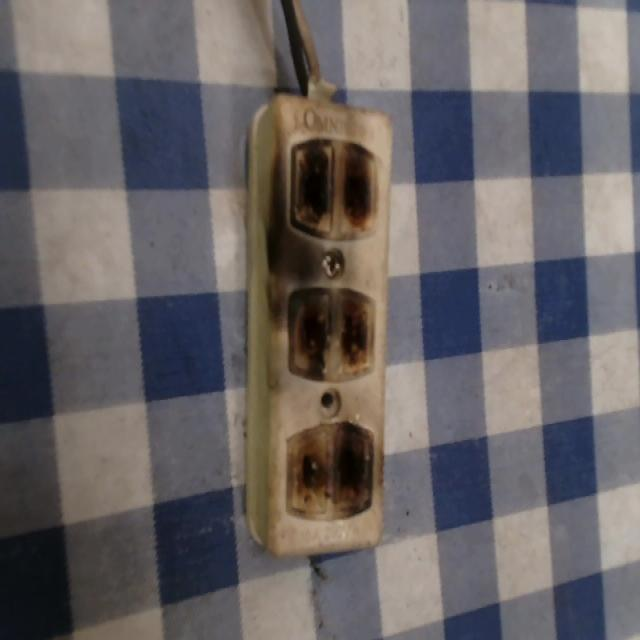-: (282, 417, 377, 523), (287, 135, 378, 241), (285, 284, 377, 385)
